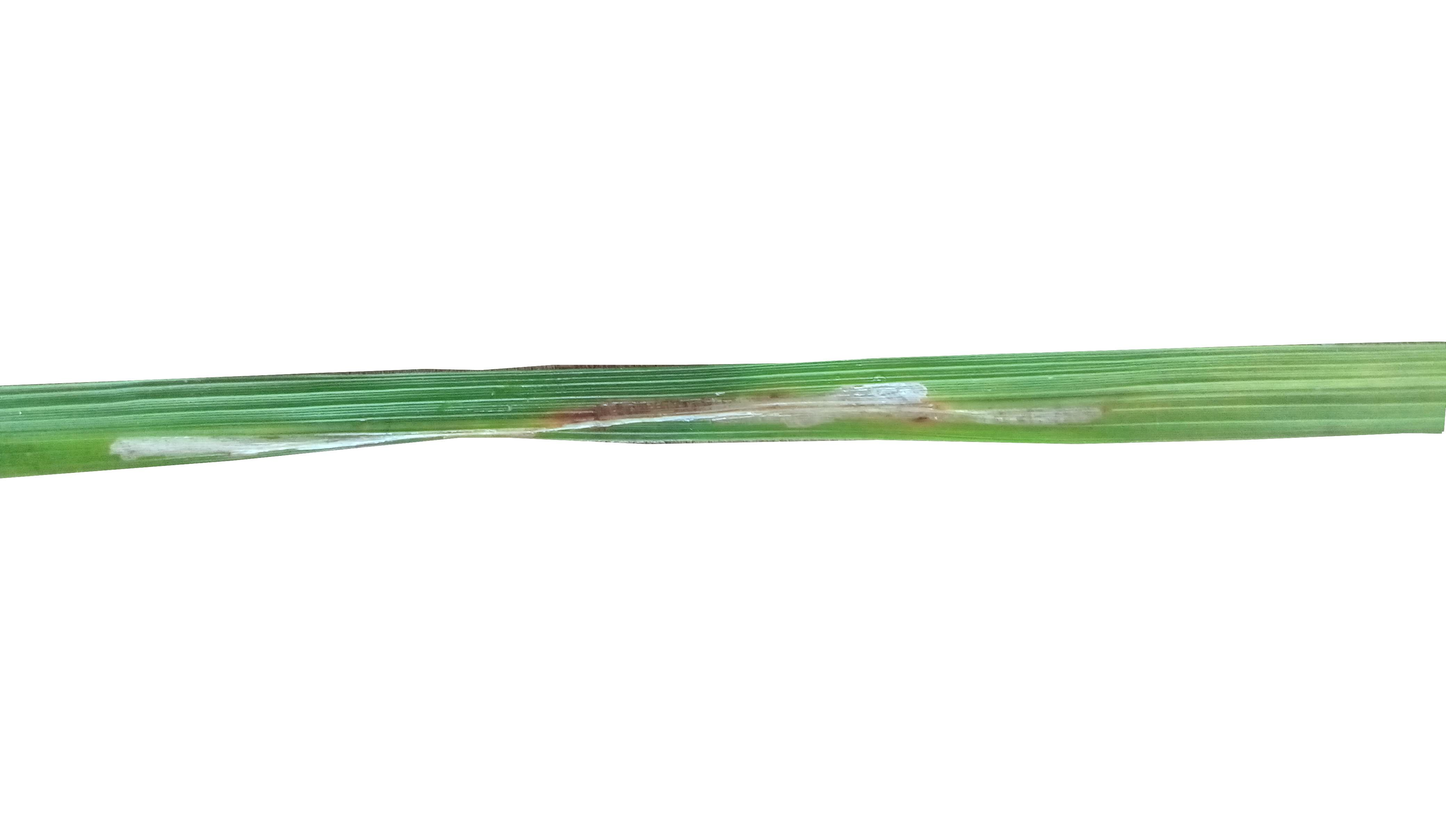Blight: (546, 391, 928, 438), (923, 391, 1114, 434), (96, 426, 308, 459)
